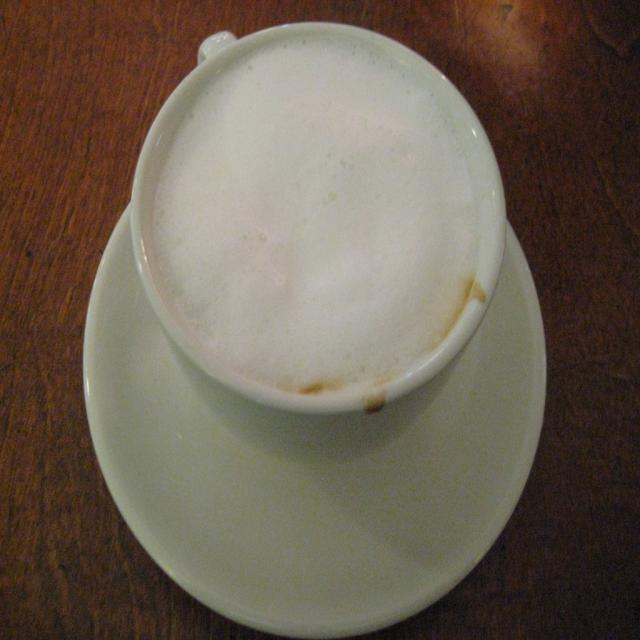Coffee: (118, 6, 528, 462)
